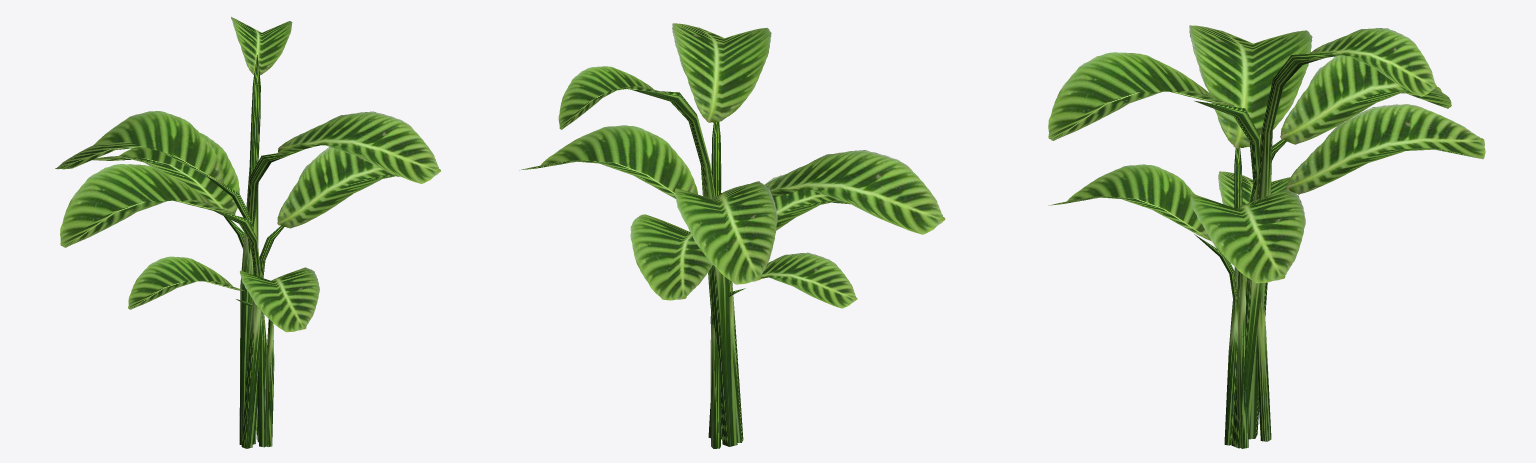
File: Plant_BroadLeaf2.fbx
3 views of the same model, side by side, from view 1: azimuth 30°, elevation 25°; view 2: azimuth 150°, elevation 25°; view 3: azimuth 270°, elevation 25° (orthographic). The views are drawn at different scales.
Visible parts, largest first — view 1: Plane.006; view 2: Plane.006; view 3: Plane.006.
Boxes of the visible parts, x1=… form: Plane.006: x1=55, y1=17, x2=440, y2=448; Plane.006: x1=519, y1=23, x2=945, y2=448; Plane.006: x1=1048, y1=25, x2=1485, y2=448.
Bounding box in the file's own units: 401 × 356 × 385.
